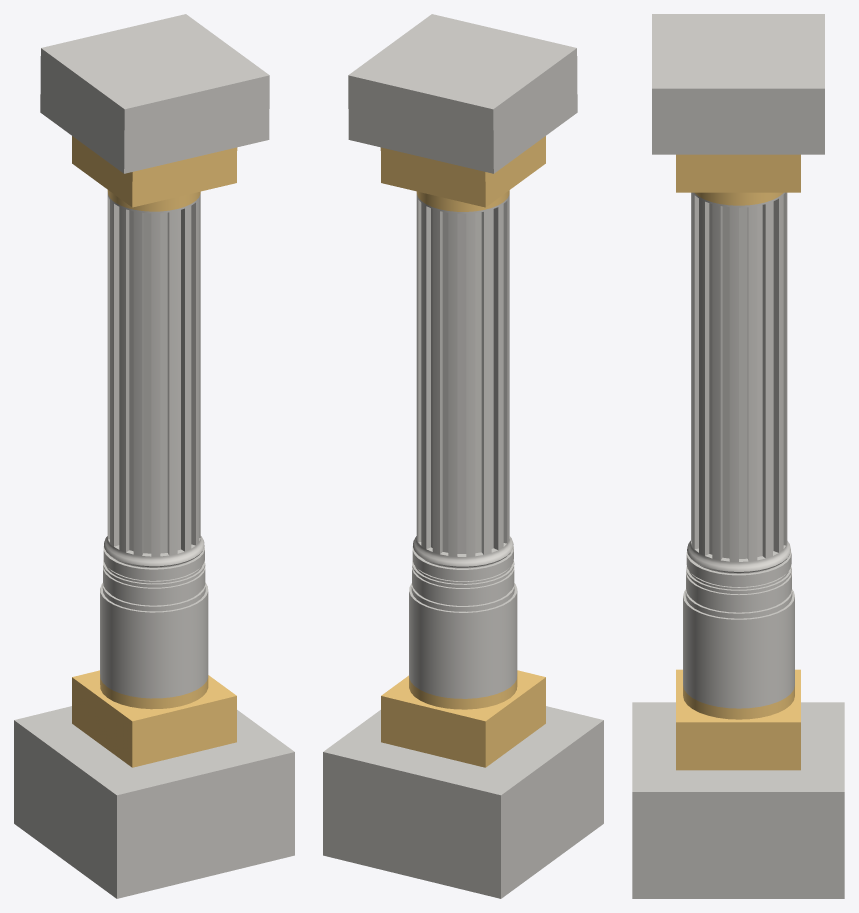
Rendered from pillar.glb.
3 views of the same model, side by side, from view 1: azimuth 30°, elevation 25°; view 2: azimuth 150°, elevation 25°; view 3: azimuth 270°, elevation 25° (orthographic). The views are drawn at different scales.
Visible parts, largest first — view 1: Pillar; view 2: Pillar; view 3: Pillar.
Part boxes in pixels (box(x1,y1,x2,y2)): Pillar: box(14, 14, 294, 898); Pillar: box(323, 14, 603, 898); Pillar: box(632, 14, 844, 898).
Size of the model in its own units: 2.21 by 9.24 by 2.21.
